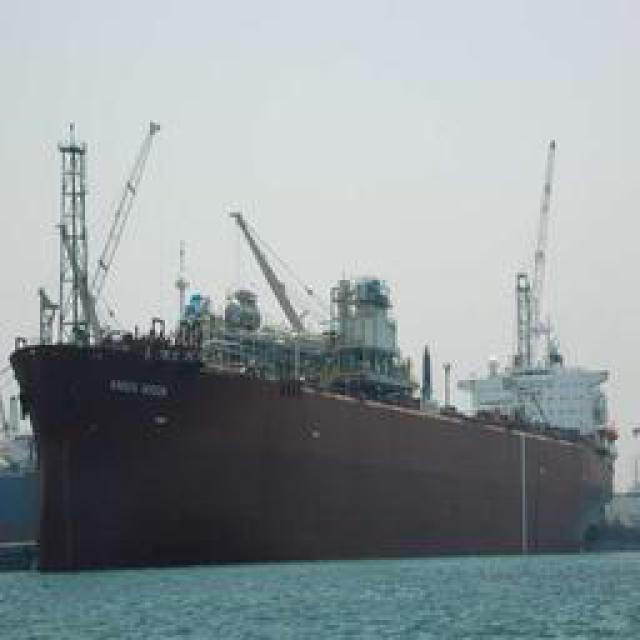Ship: (14, 116, 624, 564)
